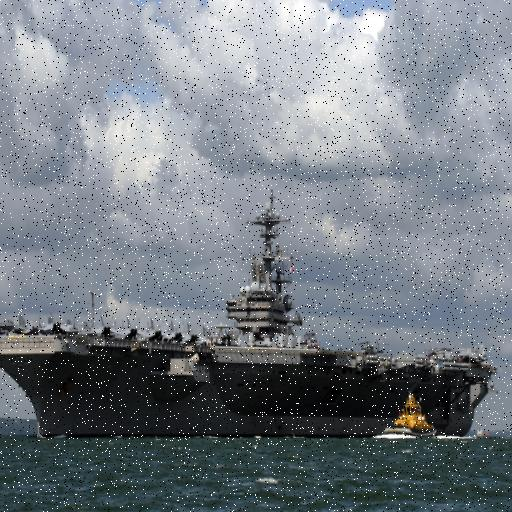Portanaves: (1, 183, 500, 448)
